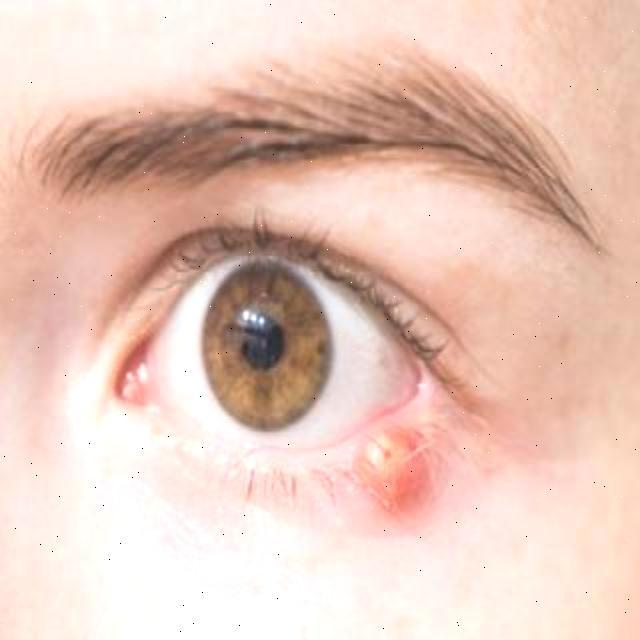Stye: (298, 352, 470, 558)
